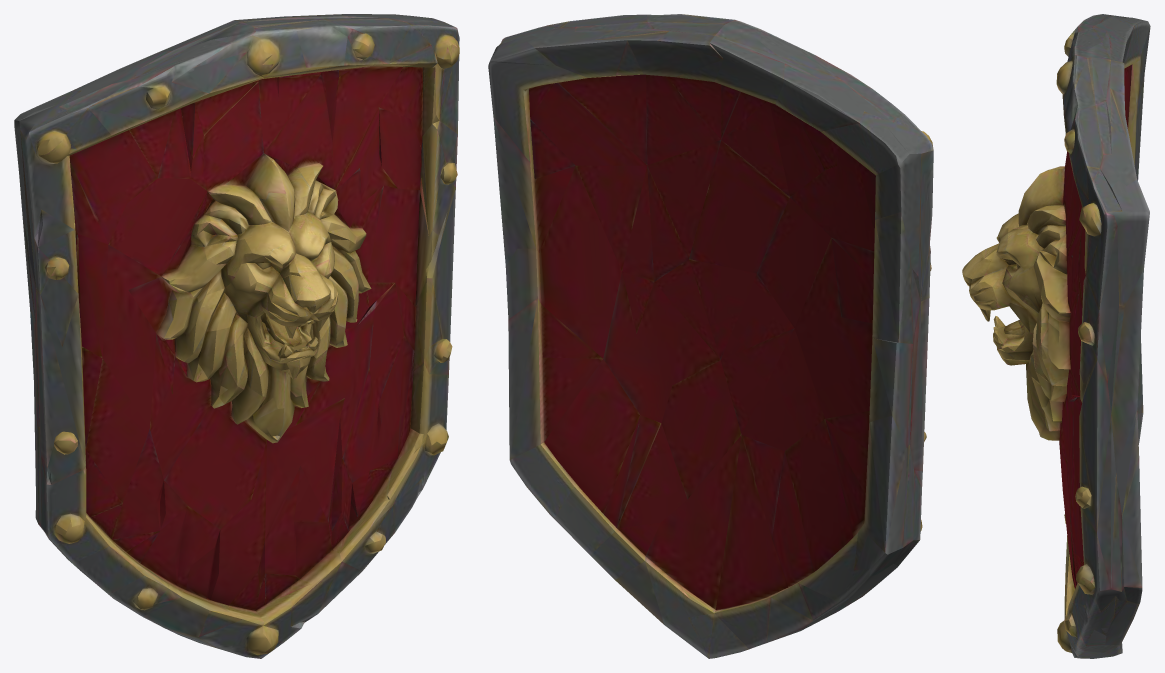
File: shield_guardian.glb
The picture shows the model from 3 angles, left to right: view 1: azimuth 30°, elevation 25°; view 2: azimuth 150°, elevation 25°; view 3: azimuth 270°, elevation 25°; orthographic projection. The views are drawn at different scales.
Size of the model in its own units: 1.37 by 1.9 by 0.5393.
Materials: 1 (1 with a texture image).
